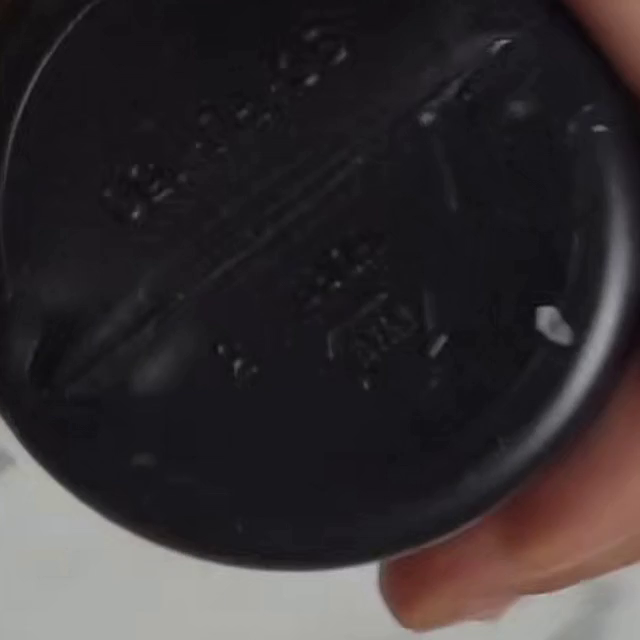Plastic: (315, 273, 451, 402)
